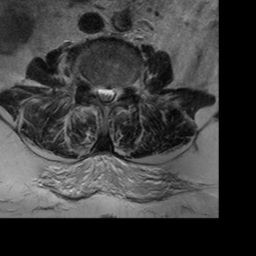CCS_stenosis: (103, 78, 110, 111)
LFS_normal: (120, 74, 128, 103)
LLS_normal: (110, 78, 120, 108)
RFS_normal: (86, 73, 95, 102)
RLS_normal: (95, 78, 103, 105)
